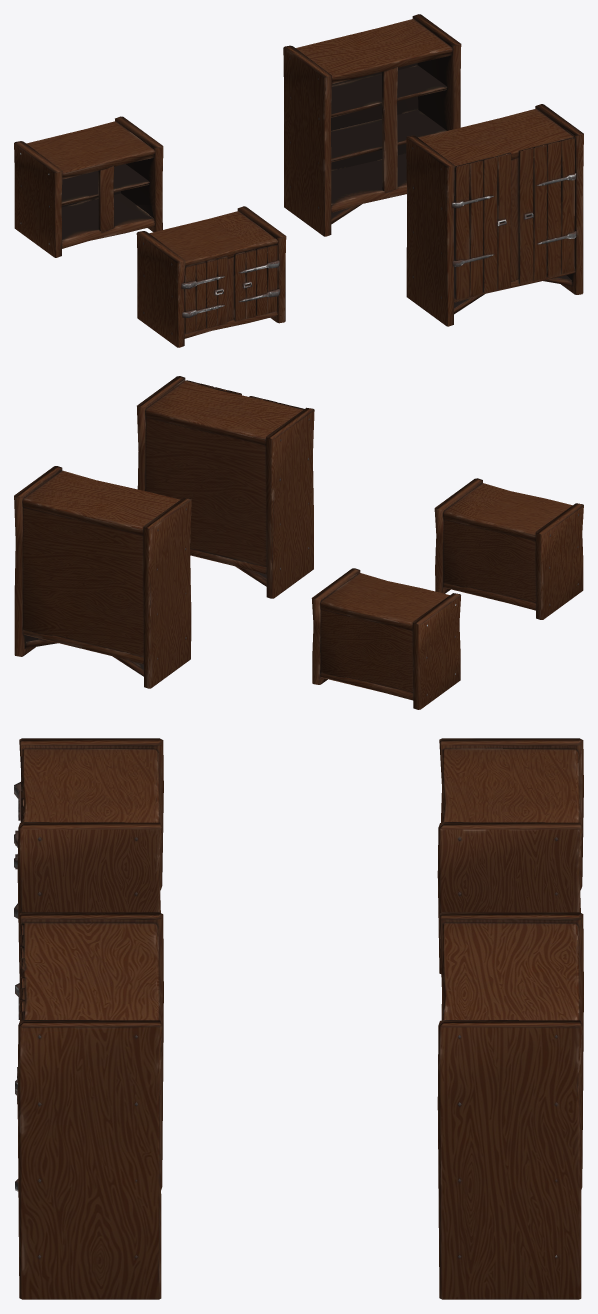
The model's file is set_of_stylized_cupboards.fbx.
3 views of the same model, one above another, from view 1: azimuth 30°, elevation 25°; view 2: azimuth 150°, elevation 25°; view 3: azimuth 270°, elevation 25° (orthographic). The views are drawn at different scales.
Visible parts, largest first — view 1: node_30281ed2_daa5_415c_a4f1_eac97bcd7bc9_mesh0, node_01d32e7a_2097_421a_b2d9_ac9a221b03b2_mesh0, node_189eab3f_1024_4323_a62f_2e80027e4056_mesh0, node_568eda5a_9c52_4532_944e_bd11eb5daa04_mesh0; view 2: node_01d32e7a_2097_421a_b2d9_ac9a221b03b2_mesh0, node_30281ed2_daa5_415c_a4f1_eac97bcd7bc9_mesh0, node_568eda5a_9c52_4532_944e_bd11eb5daa04_mesh0, node_189eab3f_1024_4323_a62f_2e80027e4056_mesh0; view 3: node_30281ed2_daa5_415c_a4f1_eac97bcd7bc9_mesh0, node_01d32e7a_2097_421a_b2d9_ac9a221b03b2_mesh0, node_189eab3f_1024_4323_a62f_2e80027e4056_mesh0, node_568eda5a_9c52_4532_944e_bd11eb5daa04_mesh0.
Boxes of the visible parts, x1=… form: node_30281ed2_daa5_415c_a4f1_eac97bcd7bc9_mesh0: x1=406, y1=104, x2=583, y2=326; node_01d32e7a_2097_421a_b2d9_ac9a221b03b2_mesh0: x1=283, y1=14, x2=461, y2=236; node_189eab3f_1024_4323_a62f_2e80027e4056_mesh0: x1=136, y1=206, x2=286, y2=347; node_568eda5a_9c52_4532_944e_bd11eb5daa04_mesh0: x1=14, y1=116, x2=163, y2=257; node_01d32e7a_2097_421a_b2d9_ac9a221b03b2_mesh0: x1=14, y1=466, x2=191, y2=688; node_30281ed2_daa5_415c_a4f1_eac97bcd7bc9_mesh0: x1=137, y1=376, x2=314, y2=598; node_568eda5a_9c52_4532_944e_bd11eb5daa04_mesh0: x1=311, y1=568, x2=460, y2=709; node_189eab3f_1024_4323_a62f_2e80027e4056_mesh0: x1=434, y1=478, x2=583, y2=619; node_30281ed2_daa5_415c_a4f1_eac97bcd7bc9_mesh0: x1=15, y1=912, x2=163, y2=1299; node_01d32e7a_2097_421a_b2d9_ac9a221b03b2_mesh0: x1=437, y1=912, x2=583, y2=1299; node_189eab3f_1024_4323_a62f_2e80027e4056_mesh0: x1=14, y1=738, x2=163, y2=973; node_568eda5a_9c52_4532_944e_bd11eb5daa04_mesh0: x1=437, y1=738, x2=583, y2=973.
Bounding box in the file's own units: 2878 × 1075 × 2035.
4 materials, 4 textured.
